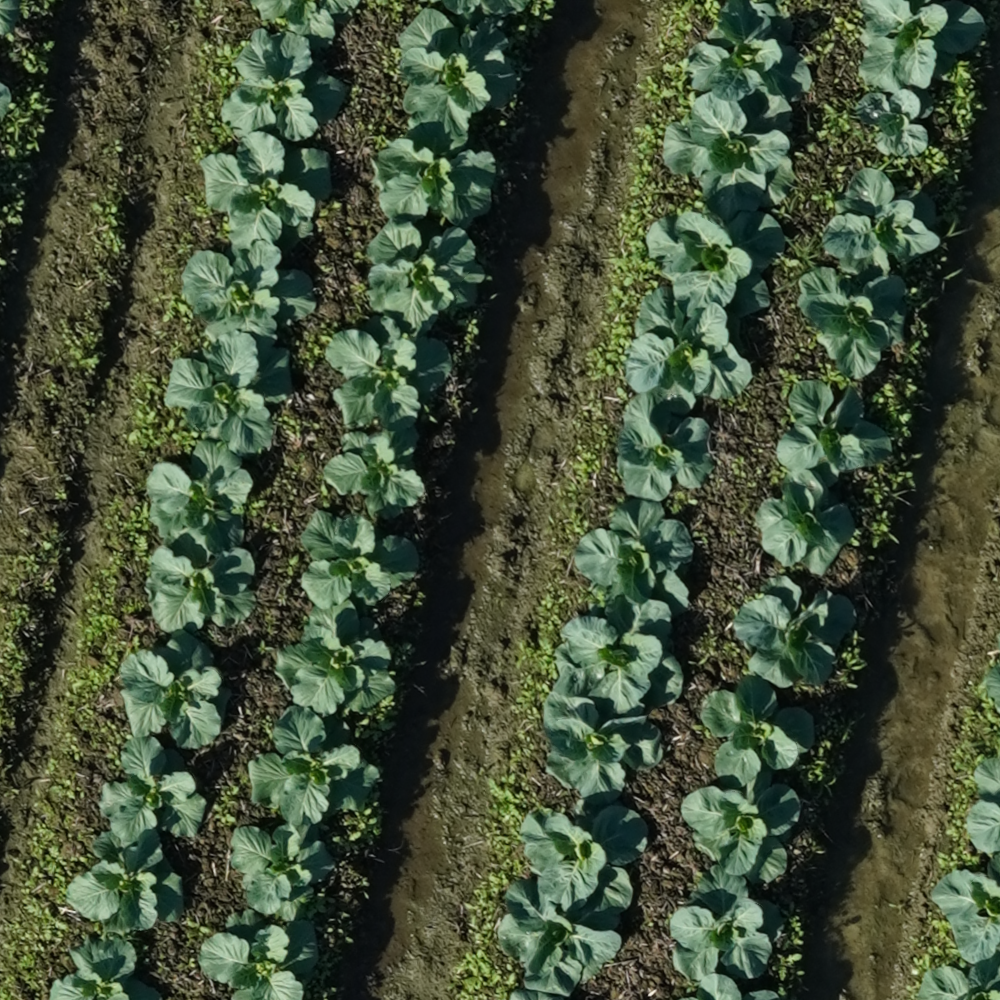Cabbage: (661, 90, 793, 224), (181, 243, 318, 368), (164, 331, 295, 455), (200, 131, 331, 252), (626, 288, 750, 415), (248, 705, 379, 825), (553, 599, 686, 717), (679, 765, 802, 889), (398, 8, 515, 138), (647, 210, 784, 321), (497, 878, 623, 996), (325, 316, 452, 431), (517, 805, 646, 918), (541, 693, 666, 809), (796, 249, 905, 379), (221, 27, 345, 141), (574, 498, 695, 613), (274, 600, 395, 715), (732, 576, 855, 688), (372, 115, 496, 226), (367, 219, 485, 332), (699, 676, 815, 790), (119, 633, 231, 750), (99, 734, 208, 852), (670, 864, 778, 983), (65, 829, 185, 936), (687, 1, 813, 101), (146, 526, 258, 635), (145, 440, 252, 554), (300, 510, 420, 610), (778, 377, 891, 483), (857, 1, 987, 93), (823, 168, 940, 264), (755, 469, 855, 578), (197, 910, 318, 1000), (230, 820, 335, 923), (618, 390, 714, 499), (322, 427, 424, 524), (48, 938, 162, 1000), (250, 0, 360, 51), (856, 89, 934, 157)
